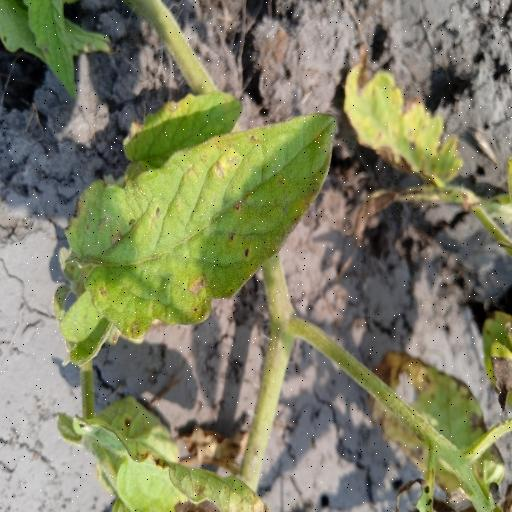Tomato_Brown_Spots: (62, 112, 338, 373)
